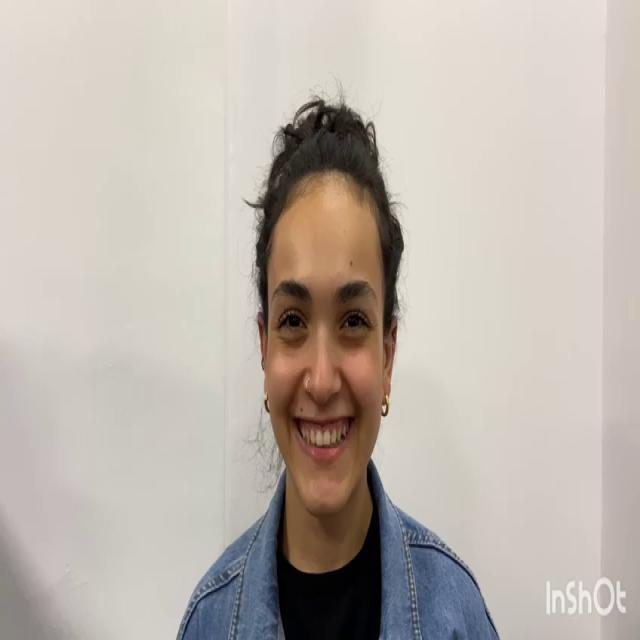happy: (268, 175, 384, 523)
